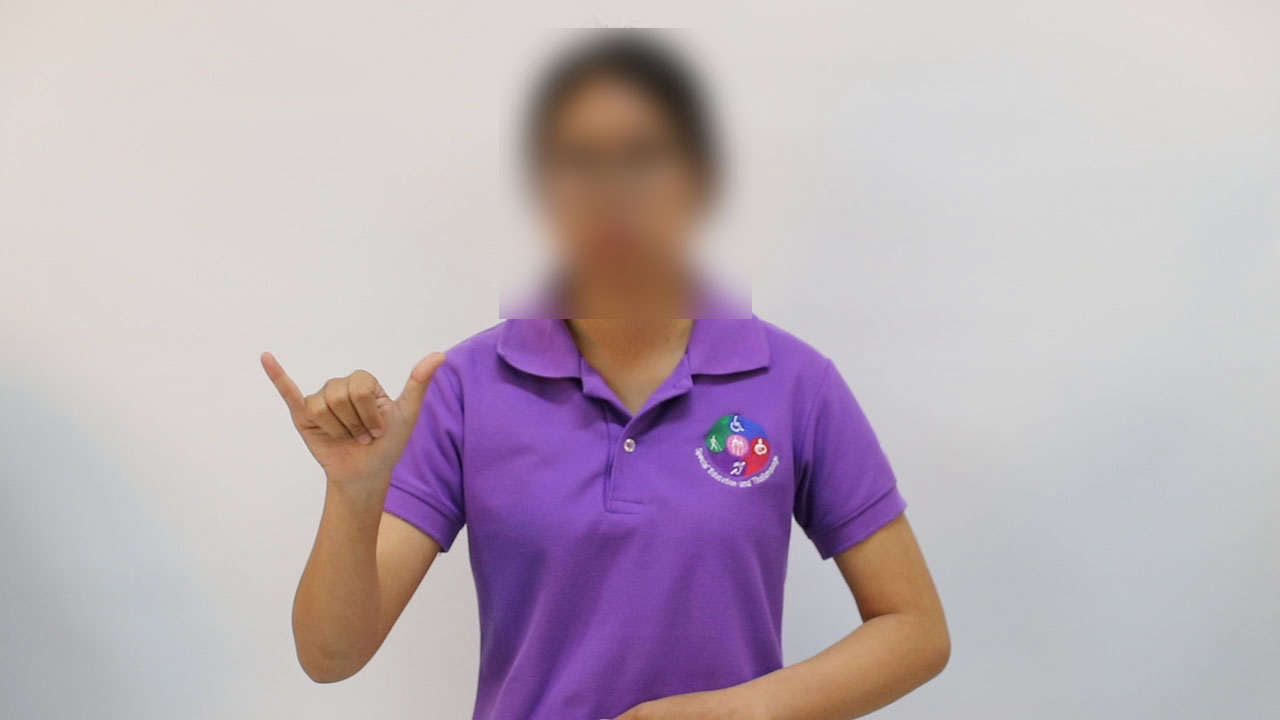yor: (251, 339, 462, 502)
